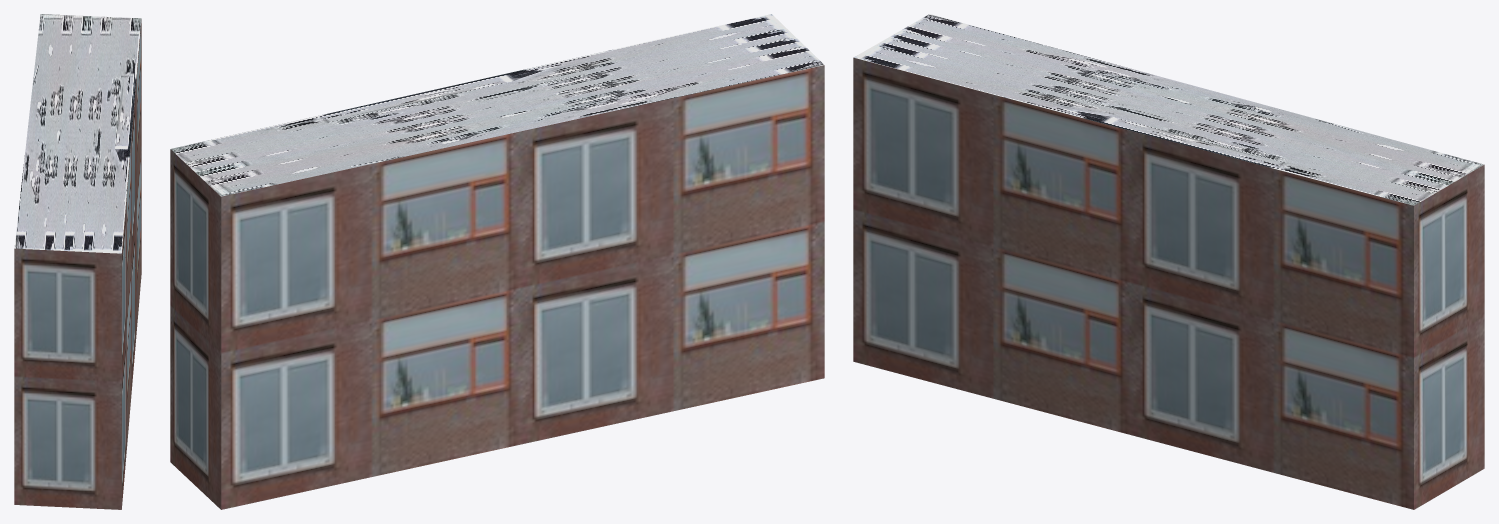
File: ResTex__4799.fbx
The picture shows the model from 3 angles, left to right: view 1: azimuth 30°, elevation 25°; view 2: azimuth 150°, elevation 25°; view 3: azimuth 270°, elevation 25°; orthographic projection. The views are drawn at different scales.
Parts seen in each view (by area): view 1: CityEngineMaterial_19_m, CityEngineMaterial_15_m; view 2: CityEngineMaterial_19_m, CityEngineMaterial_15_m; view 3: CityEngineMaterial_19_m, CityEngineMaterial_15_m.
Part boxes in pixels (x1=…): CityEngineMaterial_19_m: x1=14, y1=19, x2=141, y2=509; CityEngineMaterial_15_m: x1=14, y1=14, x2=141, y2=253; CityEngineMaterial_19_m: x1=170, y1=65, x2=824, y2=509; CityEngineMaterial_15_m: x1=170, y1=14, x2=824, y2=196; CityEngineMaterial_19_m: x1=853, y1=57, x2=1484, y2=509; CityEngineMaterial_15_m: x1=854, y1=14, x2=1483, y2=205.
Bounding box in the file's own units: 8.12 × 6 × 11.29.
Materials: 2 (2 with a texture image).
